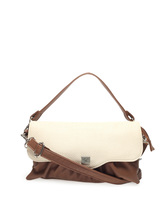bag: (19, 74, 152, 188)
